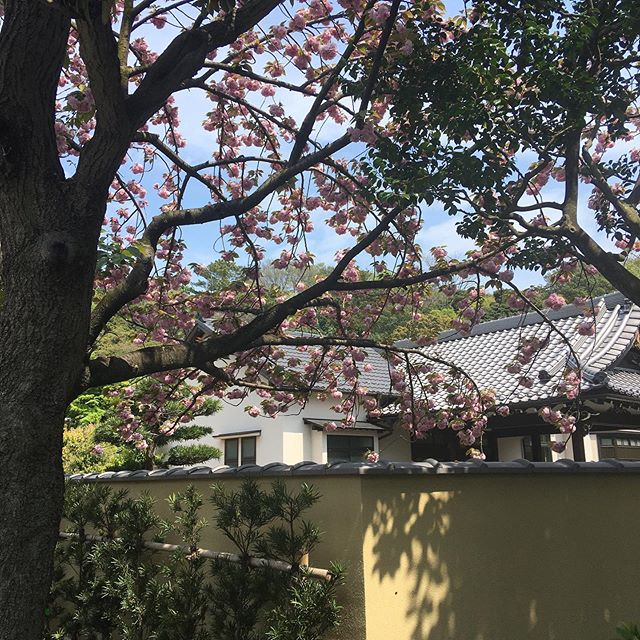building: (401, 301, 640, 464), (176, 319, 414, 464)
vegetation: (16, 1, 630, 454)
